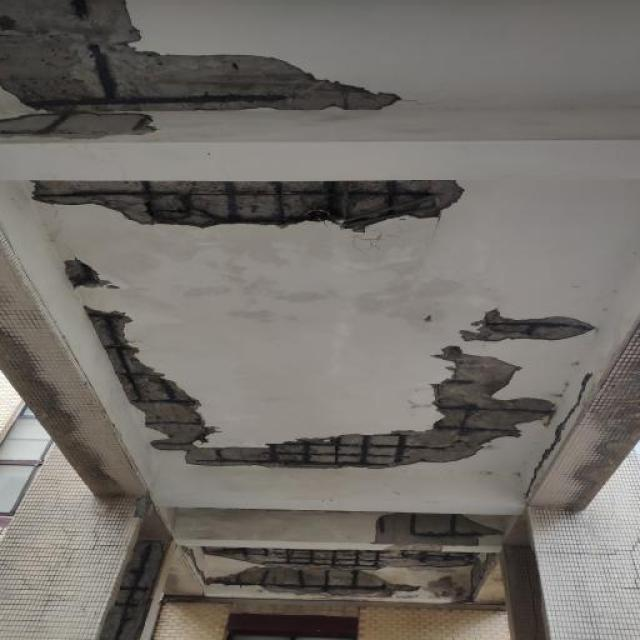D0w0: (86, 309, 552, 469), (0, 0, 398, 139), (212, 512, 500, 596), (32, 180, 461, 231), (461, 310, 590, 341), (66, 260, 109, 288)
